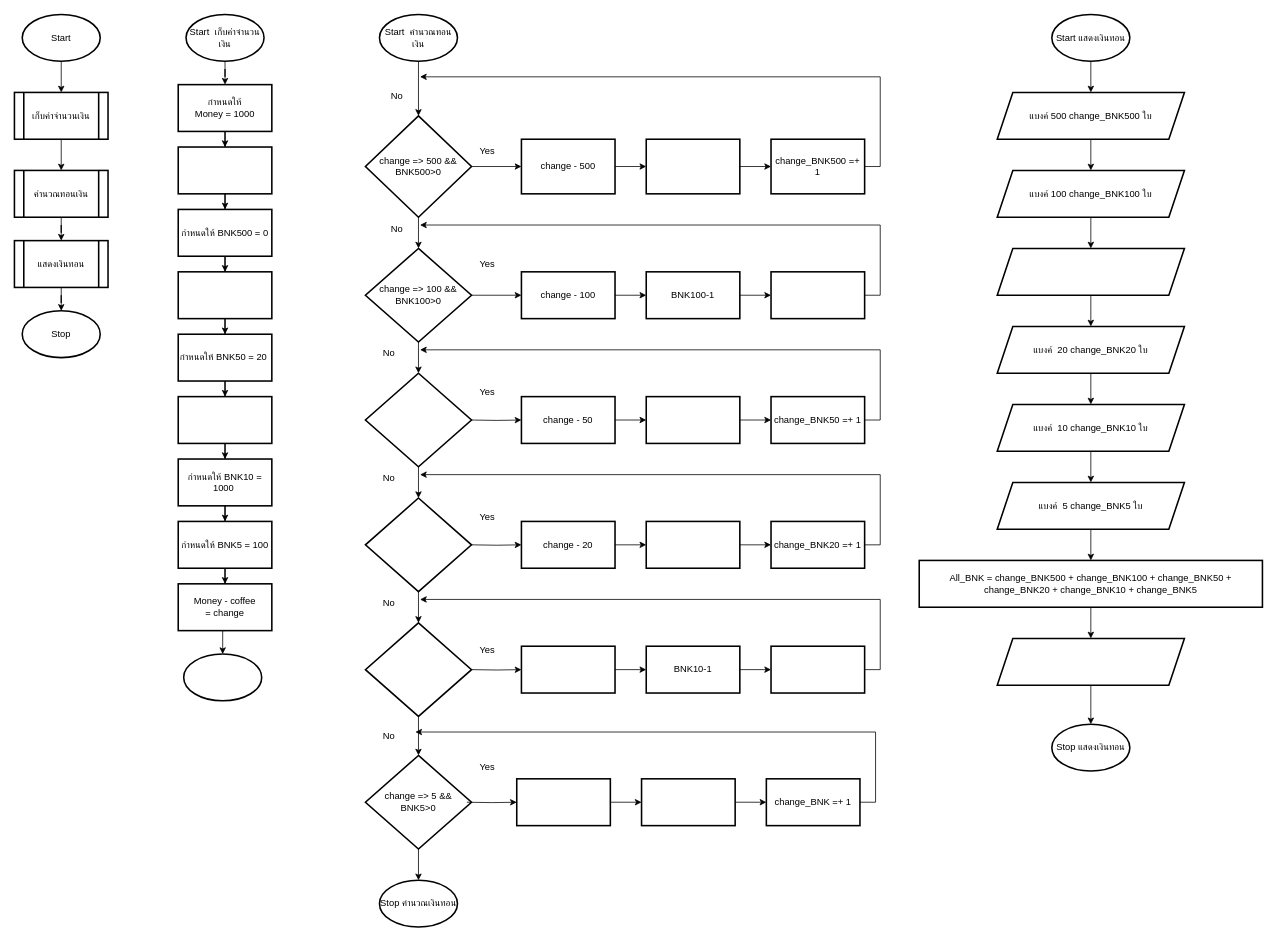
This 1276x941 diagram has some shape labels left out. Each missing label, with the box of its shape:
BNK20-1: (645, 520, 740, 569)
BNK5-1: (640, 778, 736, 826)
BNK50-1: (645, 395, 740, 444)
BNK500 - 1: (645, 138, 740, 194)
change - 10: (520, 645, 615, 693)
change - 5: (516, 778, 611, 826)
change => 10 && BNK10>0: (364, 622, 472, 717)
change => 20 && BNK20>0: (364, 497, 472, 592)
change => 50 && BNK50>0: (364, 372, 472, 467)
change_BNK10 =+ 1: (770, 645, 865, 693)
change_BNK100 =+ 1: (770, 271, 865, 319)
Stop เก็บค่าจำนวนเงิน: (183, 653, 262, 701)
กำหนดให้ BNK100 = 5: (177, 271, 272, 319)
กำหนดให้ BNK20 = 10: (177, 395, 272, 444)
กำหนดให้ coffee = 45: (177, 146, 272, 194)
จำนวนแบงค์ทั้งหมด All_BNK ใบ: (996, 637, 1185, 686)
แบงค์ 50 change_BNK50 ใบ: (996, 247, 1185, 296)
